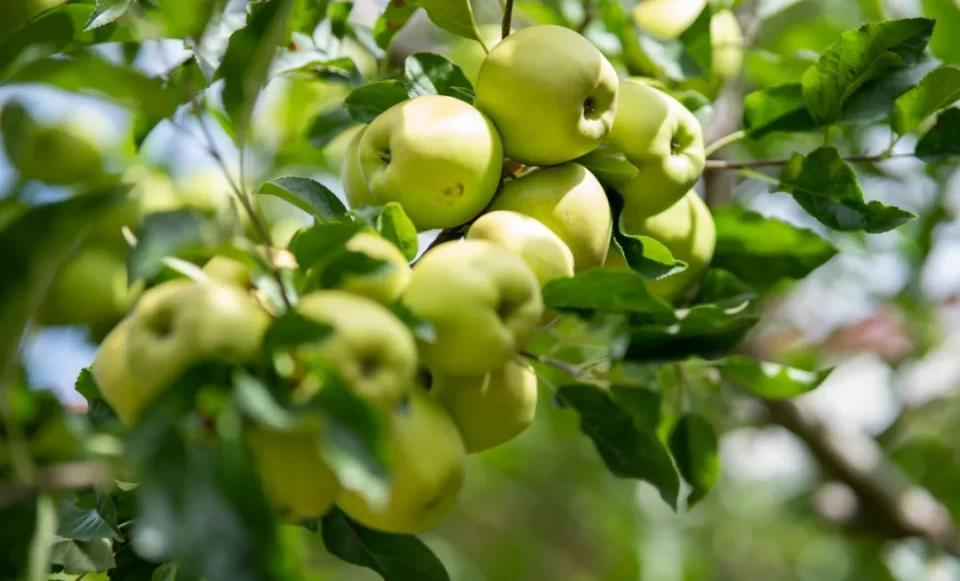apple: (345, 92, 506, 227), (474, 19, 620, 166), (327, 383, 468, 533), (124, 271, 281, 399), (402, 237, 547, 372), (278, 290, 416, 418), (607, 76, 708, 219)
